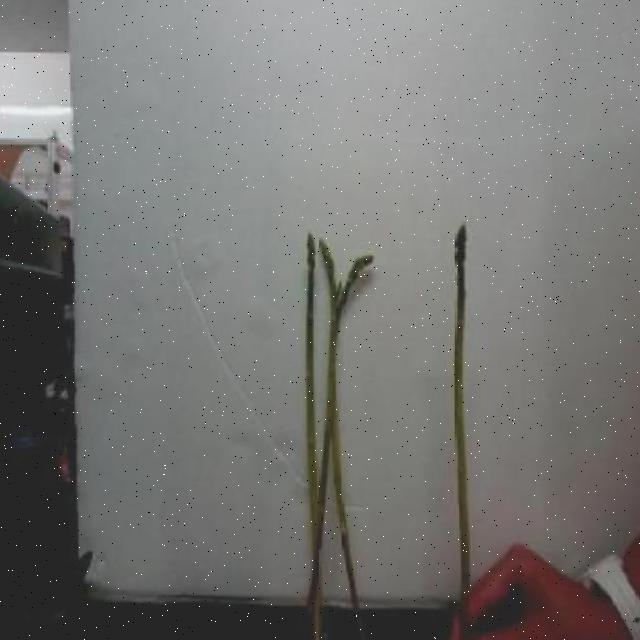aspargus: (301, 254, 373, 640), (455, 226, 470, 640)
